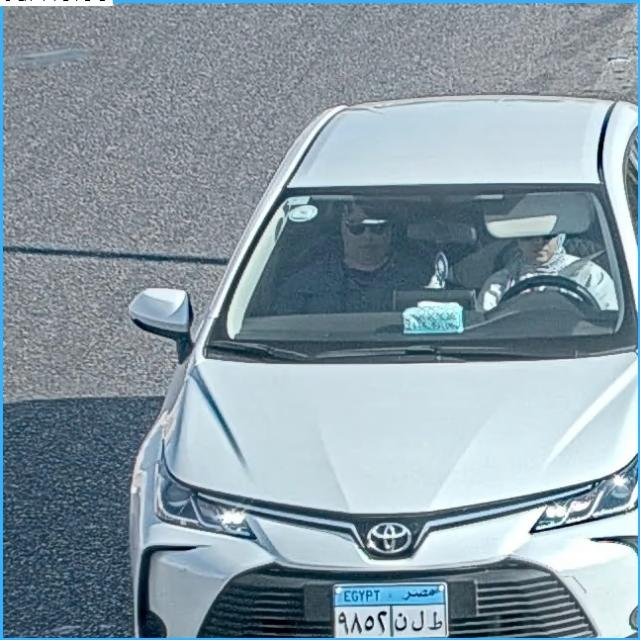windshield: (214, 190, 633, 348)
